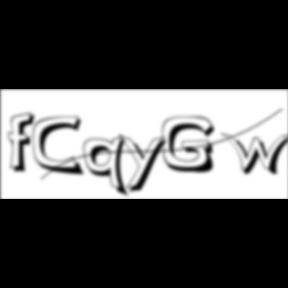C: (33, 115, 88, 178)
G: (162, 116, 222, 176)
f: (7, 111, 40, 175)
q: (84, 135, 134, 200)
y: (119, 132, 173, 196)
